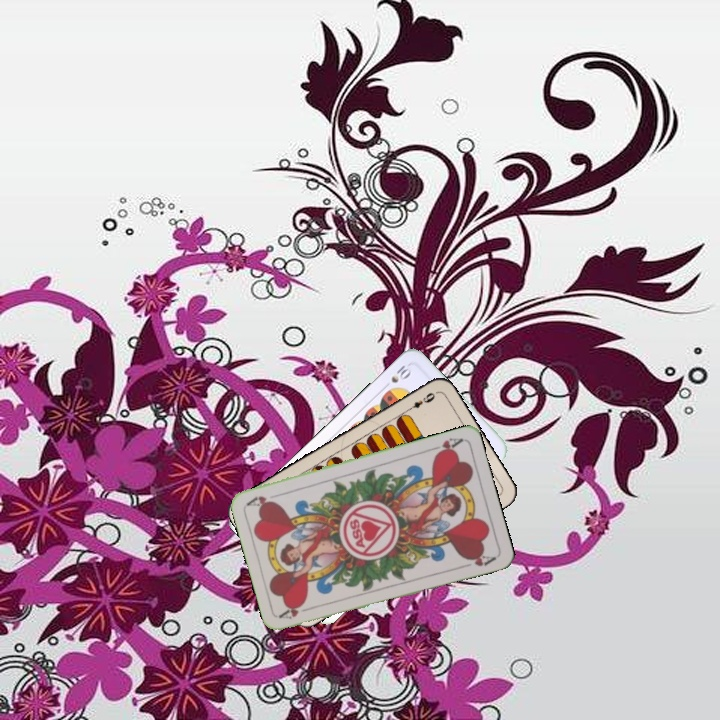E9: (402, 388, 439, 414)
HA: (425, 433, 465, 458), (276, 601, 316, 622)
S10: (379, 360, 414, 392)
